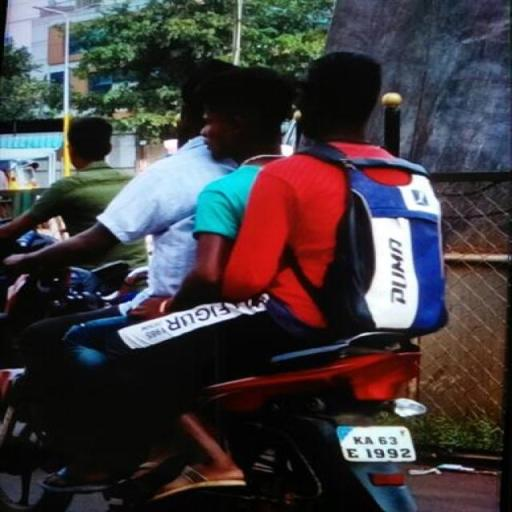tripple riding: (0, 46, 461, 358)
